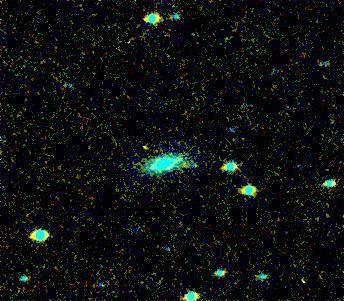star: (128, 135, 158, 165)
